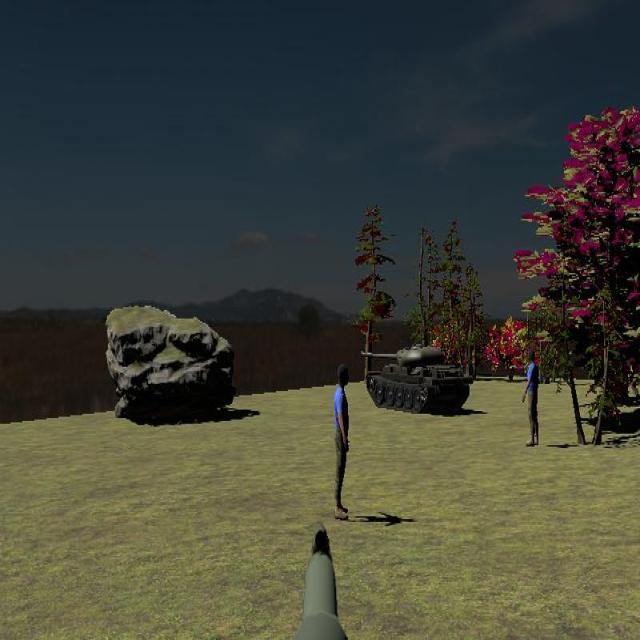Human: (334, 363, 351, 522), (522, 346, 539, 446)
Tank: (360, 341, 472, 416)
